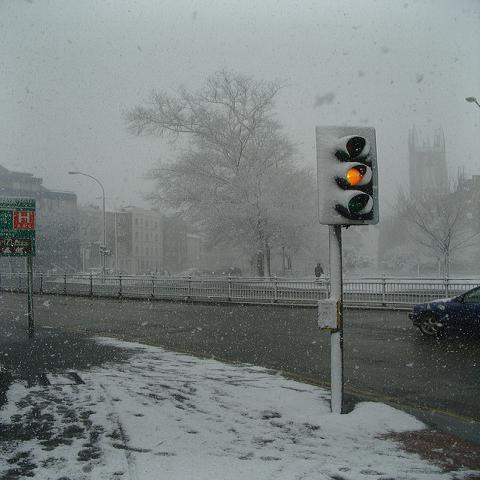car: (405, 284, 479, 340)
